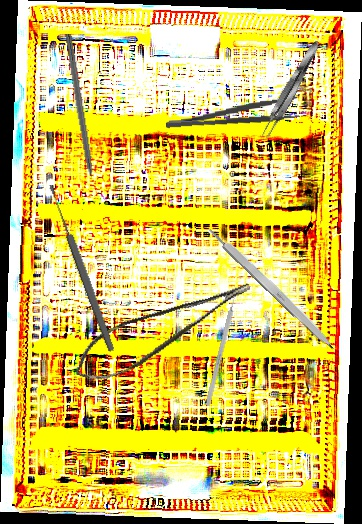Dressing Forceps: (164, 96, 300, 131)
Hook Surgical: (63, 33, 98, 198), (205, 288, 239, 407)
Micro Scissor: (64, 277, 264, 390)
Scalpel Handle: (203, 221, 340, 353)
Surgical Spoon: (46, 183, 117, 353)
Tissue Forceps: (257, 37, 325, 142)
